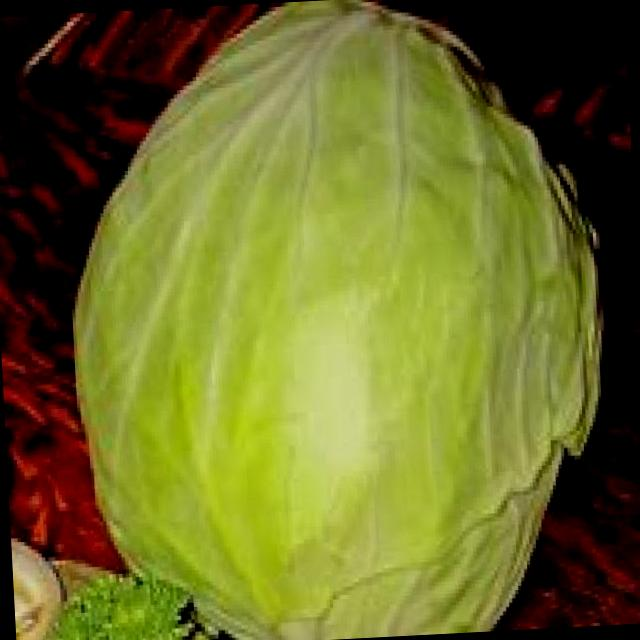cabbage: (56, 0, 623, 640)
